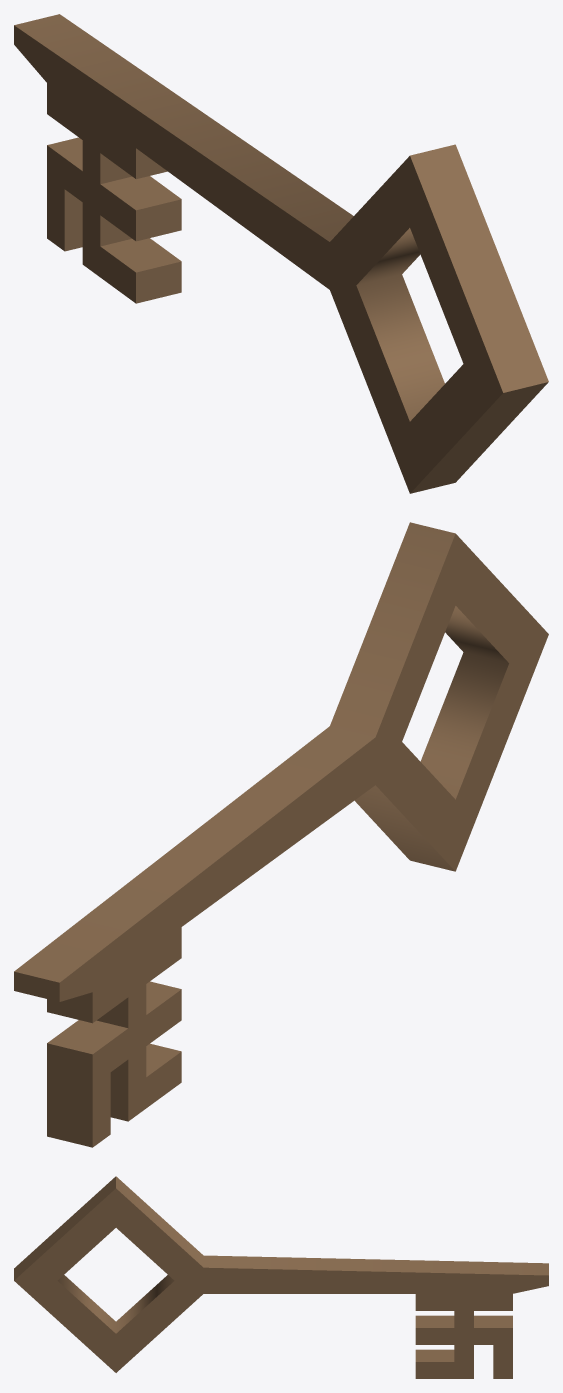
Rendered from brass_key_0.glb.
The picture shows the model from 3 angles, top to bottom: view 1: azimuth 30°, elevation 25°; view 2: azimuth 150°, elevation 25°; view 3: azimuth 270°, elevation 25°; orthographic projection. The views are drawn at different scales.
Visible parts, largest first — view 1: brass_key_0; view 2: brass_key_0; view 3: brass_key_0.
Boxes of the visible parts, bbox=[...] form: brass_key_0: bbox=[14, 14, 548, 493]; brass_key_0: bbox=[14, 522, 548, 1147]; brass_key_0: bbox=[14, 1176, 548, 1378].
Bounding box in the file's own units: 0.08 × 0.5828 × 1.48.
